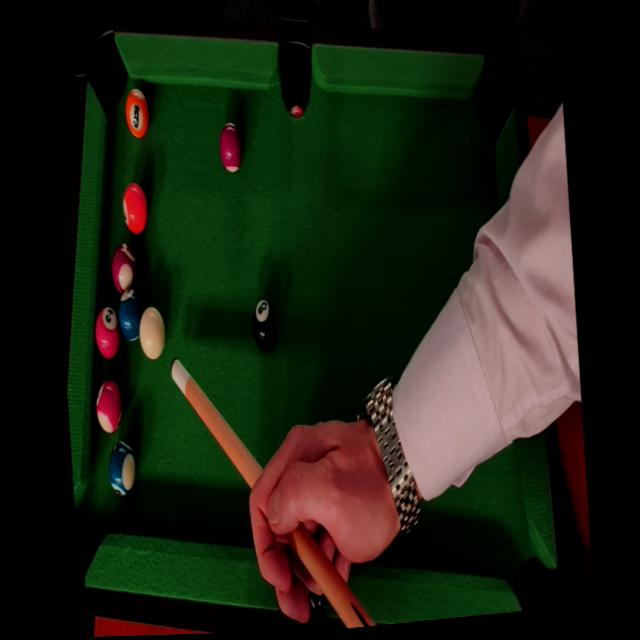cue ball: (133, 297, 169, 366)
other: (101, 432, 139, 501), (91, 376, 126, 440), (118, 174, 150, 240), (215, 118, 248, 181), (90, 304, 122, 368), (121, 81, 153, 142), (249, 292, 278, 359), (108, 237, 138, 296), (113, 288, 145, 343)
